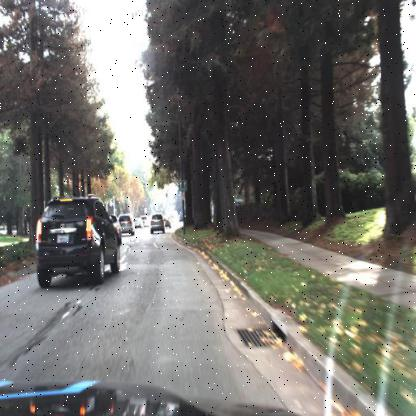car: (34, 193, 121, 289), (149, 210, 165, 234), (164, 211, 172, 232), (179, 212, 187, 224)
